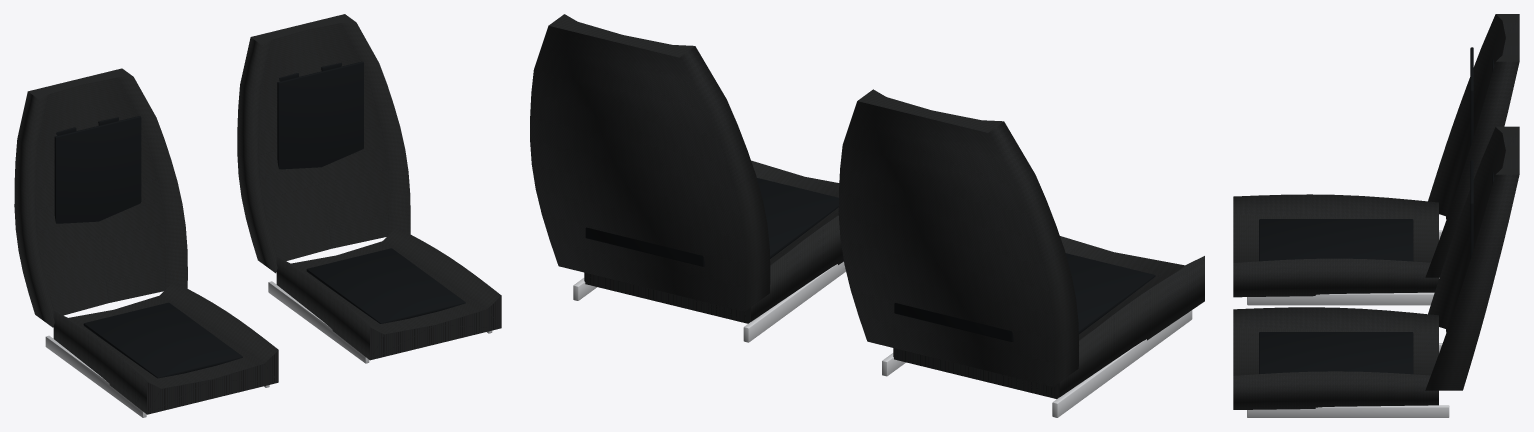
The model's file is BS01_carbon_buckets.glb.
3 renders of one model, left to right at view 1: azimuth 30°, elevation 25°; view 2: azimuth 150°, elevation 25°; view 3: azimuth 270°, elevation 25°, orthographic. The views are drawn at different scales.
Parts seen in each view (by area): view 1: MOD_NA_BS01_L_back, MOD_NA_BS01_R_back, MOD_NA_BS01_L_cushion, MOD_NA_BS01_R_cushion, MOD_NA_BS01_pad_back_R, MOD_NA_BS01_pad_back_L, MOD_NA_BS01_pad_seat_R, MOD_NA_BS01_pad_seat_L, MOD_NA_BS01_rail_La, MOD_NA_BS01_rail_Ra; view 2: MOD_NA_BS01_L_back, MOD_NA_BS01_R_back, MOD_NA_BS01_R_cushion, MOD_NA_BS01_L_cushion, MOD_NA_BS01_pad_seat_R, MOD_NA_BS01_pad_seat_L, MOD_NA_BS01_rail_Ra, MOD_NA_BS01_rail_La, MOD_NA_BS01_pad_back_L, MOD_NA_BS01_pad_back_R; view 3: MOD_NA_BS01_L_cushion, MOD_NA_BS01_R_cushion, MOD_NA_BS01_L_back, MOD_NA_BS01_R_back, MOD_NA_BS01_pad_seat_R, MOD_NA_BS01_pad_seat_L, MOD_NA_BS01_rail_Lb, MOD_NA_BS01_rail_Rb, MOD_NA_BS01_pad_back_L, MOD_NA_BS01_pad_back_R.
Boxes of the visible parts, x1,y1,x2,y2 form: MOD_NA_BS01_L_back: (237, 14, 410, 273); MOD_NA_BS01_R_back: (14, 68, 187, 327); MOD_NA_BS01_L_cushion: (276, 227, 501, 360); MOD_NA_BS01_R_cushion: (53, 282, 278, 414); MOD_NA_BS01_pad_back_R: (54, 116, 141, 223); MOD_NA_BS01_pad_back_L: (277, 61, 363, 169); MOD_NA_BS01_pad_seat_R: (83, 302, 242, 378); MOD_NA_BS01_pad_seat_L: (306, 248, 465, 323); MOD_NA_BS01_rail_La: (268, 281, 369, 363); MOD_NA_BS01_rail_Ra: (45, 335, 146, 417); MOD_NA_BS01_L_back: (530, 14, 770, 311); MOD_NA_BS01_R_back: (838, 89, 1078, 386); MOD_NA_BS01_R_cushion: (893, 236, 1204, 398); MOD_NA_BS01_L_cushion: (584, 160, 843, 323); MOD_NA_BS01_pad_seat_R: (1065, 253, 1155, 333); MOD_NA_BS01_pad_seat_L: (757, 178, 838, 258); MOD_NA_BS01_rail_Ra: (1052, 310, 1192, 417); MOD_NA_BS01_rail_La: (743, 261, 845, 342); MOD_NA_BS01_pad_back_L: (585, 227, 705, 266); MOD_NA_BS01_pad_back_R: (894, 303, 1013, 341); MOD_NA_BS01_L_cushion: (1233, 307, 1438, 409); MOD_NA_BS01_R_cushion: (1233, 194, 1438, 297); MOD_NA_BS01_L_back: (1425, 126, 1519, 390); MOD_NA_BS01_R_back: (1425, 14, 1519, 277); MOD_NA_BS01_pad_seat_R: (1259, 219, 1413, 261); MOD_NA_BS01_pad_seat_L: (1259, 332, 1413, 374); MOD_NA_BS01_rail_Lb: (1247, 405, 1449, 417); MOD_NA_BS01_rail_Rb: (1247, 292, 1434, 305); MOD_NA_BS01_pad_back_L: (1470, 160, 1473, 259); MOD_NA_BS01_pad_back_R: (1470, 47, 1473, 146).
Size of the model in its own units: 1.31 by 0.758 by 0.8353.
Materials: 3 (1 with a texture image).
